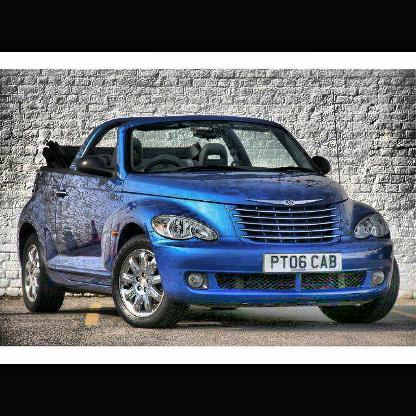Chrysler PT Cruiser Convertible 2008: (18, 115, 402, 329)
